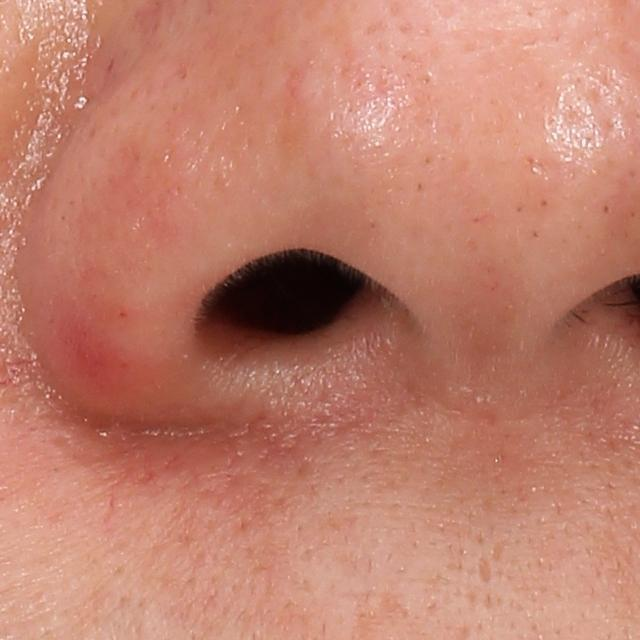atrophic_scar: (475, 550, 493, 584)
